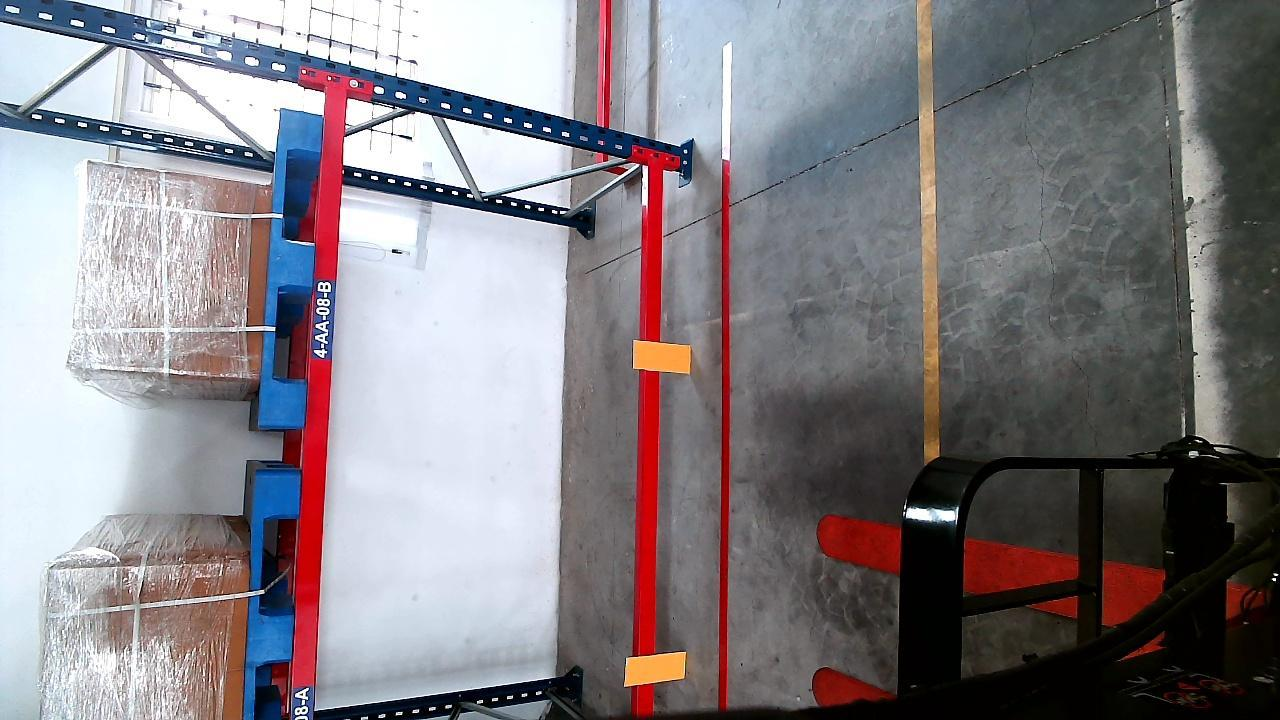red_line: (716, 156, 737, 709)
yellow_line: (918, 0, 944, 457)
